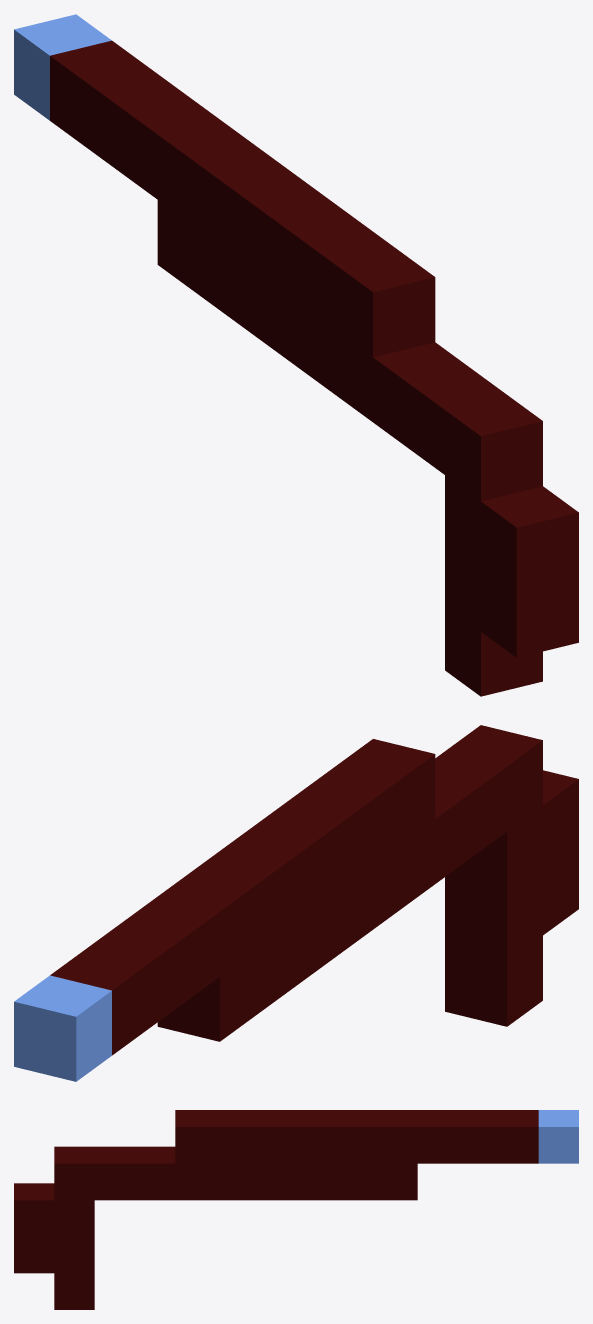
File: Other-3.obj
3 renders of one model, top to bottom at view 1: azimuth 30°, elevation 25°; view 2: azimuth 150°, elevation 25°; view 3: azimuth 270°, elevation 25°, orthographic. The views are drawn at different scales.
Size of the model in its own units: 0.1 by 0.5 by 1.4.
Materials: 1 (1 with a texture image).
